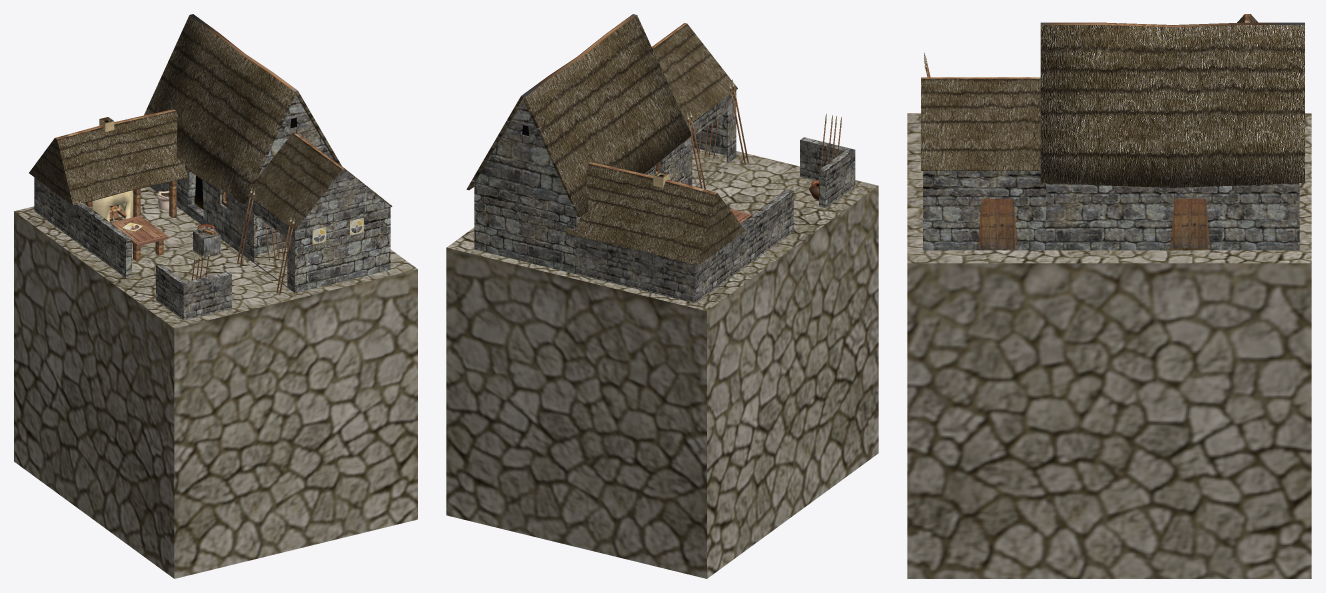
Rendered from inca_blacksmith.dae.
The picture shows the model from 3 angles, left to right: view 1: azimuth 30°, elevation 25°; view 2: azimuth 150°, elevation 25°; view 3: azimuth 270°, elevation 25°; orthographic projection. The views are drawn at different scales.
Parts seen in each view (by area): view 1: blacksmith; view 2: blacksmith; view 3: blacksmith.
Boxes of the visible parts, left/top/right/bottom form: blacksmith: left=14, top=14, right=417, bottom=578; blacksmith: left=446, top=14, right=878, bottom=578; blacksmith: left=907, top=14, right=1311, bottom=578.
Size of the model in its own units: 19.56 by 22.31 by 31.2.
